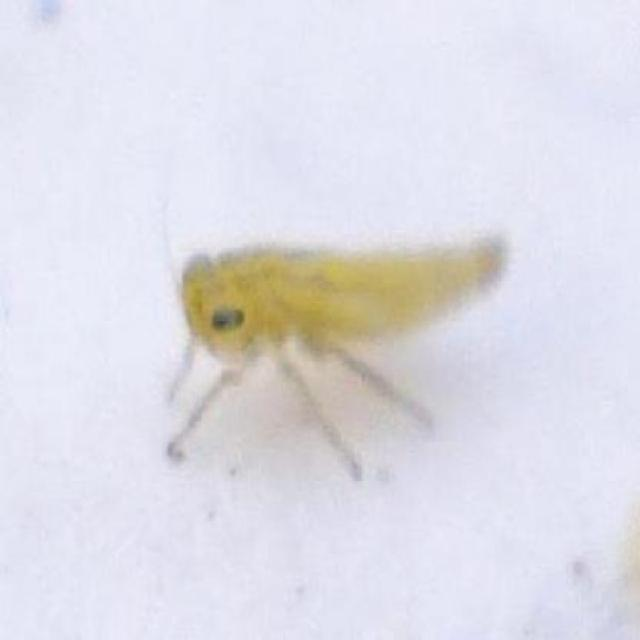green-leafhopper: (174, 232, 512, 374)
